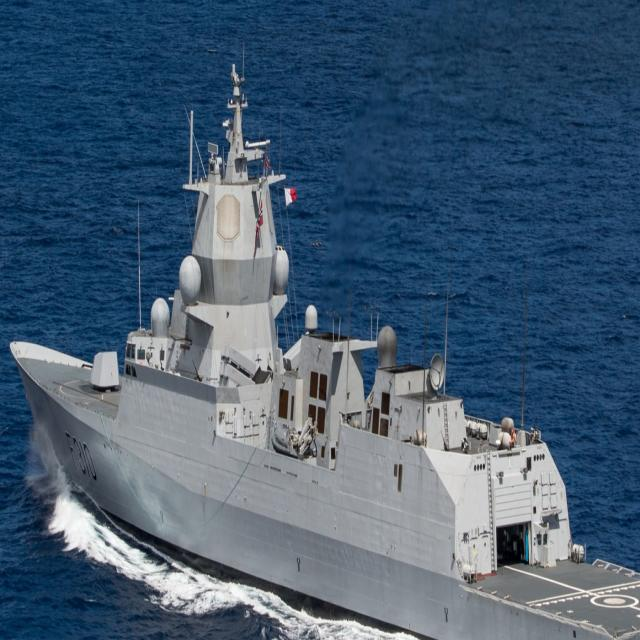Fragata: (5, 44, 640, 640)
